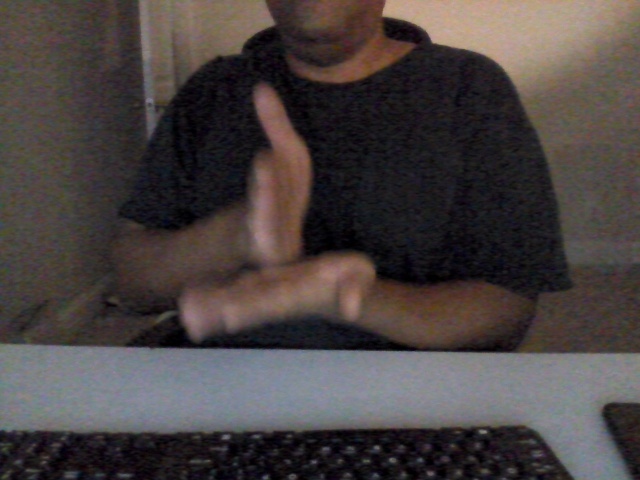stop: (172, 83, 373, 339)
